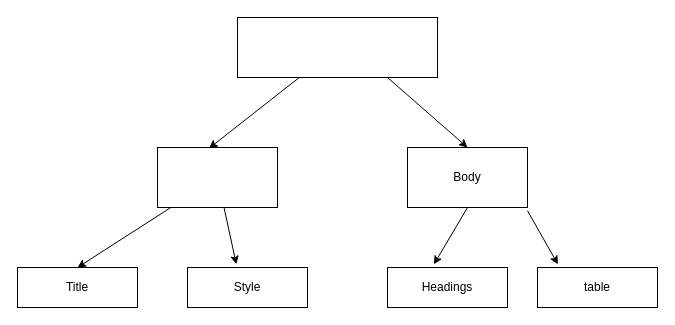
Some shapes in this 675 by 325 pixel diagram are drawn without their labels. Each missing label, with the box of its shape:
Head: (156, 146, 278, 208)
HTML: (236, 16, 438, 78)
